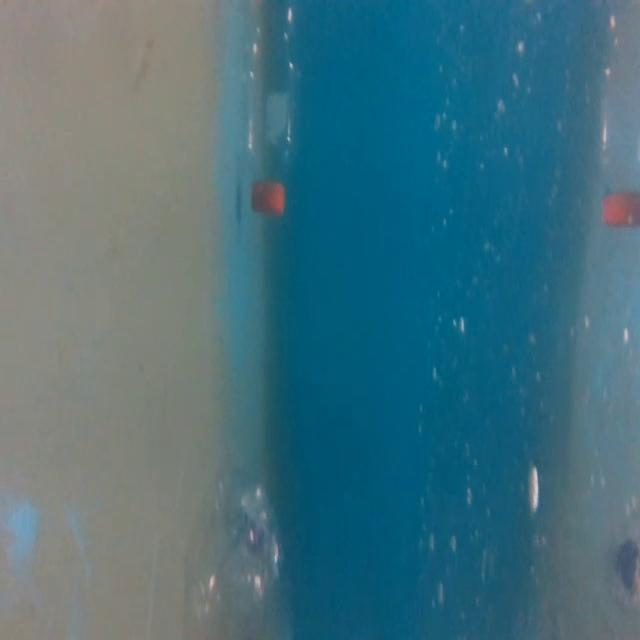plastic bags: (189, 471, 282, 621)
plastic bottle: (242, 0, 307, 215)
